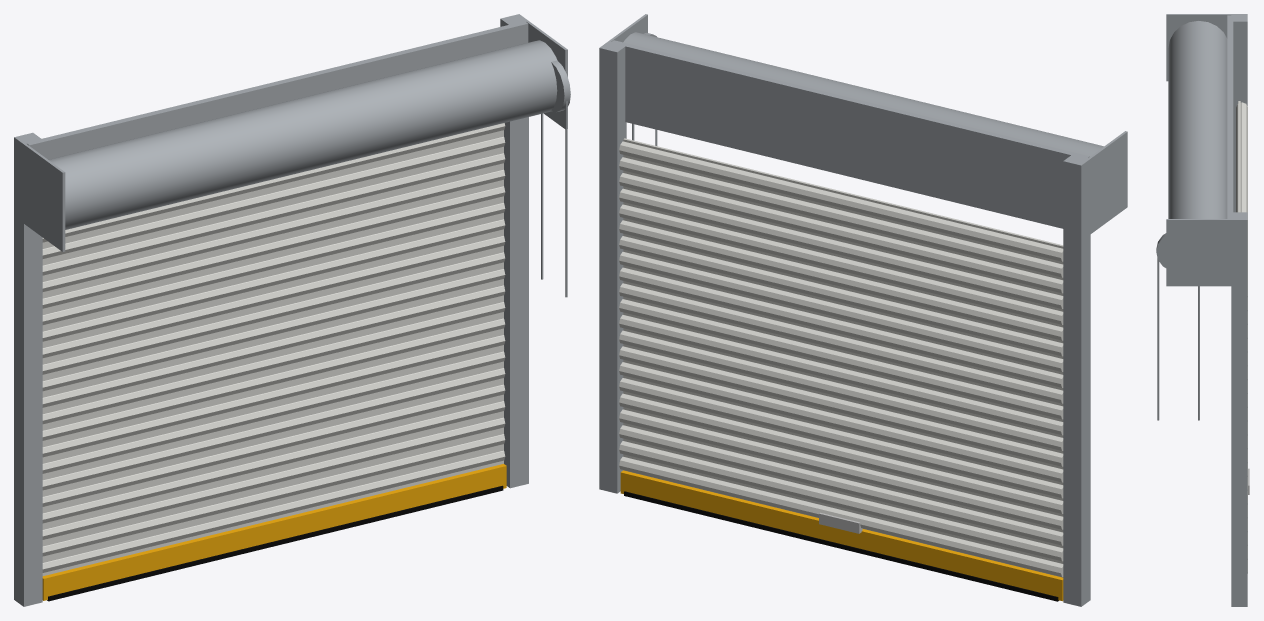
File: opening.door.vehicle_roller_garage.glb
The picture shows the model from 3 angles, left to right: view 1: azimuth 30°, elevation 25°; view 2: azimuth 150°, elevation 25°; view 3: azimuth 270°, elevation 25°; orthographic projection. The views are drawn at different scales.
Visible parts, largest first — view 1: leaf__paint_white, frame__steel_galvanised, leaf__plant_yellow, leaf__rubber, ironmongery__steel_galvanised; view 2: leaf__paint_white, frame__steel_galvanised, leaf__plant_yellow, leaf__rubber; view 3: frame__steel_galvanised, leaf__paint_white, ironmongery__steel_galvanised.
Boxes of the visible parts, left/top/right/bottom form: leaf__paint_white: left=42, top=123, right=505, bottom=575; frame__steel_galvanised: left=14, top=14, right=567, bottom=606; leaf__plant_yellow: left=42, top=464, right=506, bottom=600; leaf__rubber: left=47, top=485, right=503, bottom=601; ironmongery__steel_galvanised: left=541, top=60, right=570, bottom=297; leaf__paint_white: left=619, top=138, right=1063, bottom=577; frame__steel_galvanised: left=599, top=14, right=1127, bottom=606; leaf__plant_yellow: left=620, top=470, right=1063, bottom=601; leaf__rubber: left=624, top=491, right=1058, bottom=601; frame__steel_galvanised: left=1166, top=14, right=1247, bottom=606; leaf__paint_white: left=1236, top=101, right=1247, bottom=573; ironmongery__steel_galvanised: left=1156, top=233, right=1199, bottom=420.
Size of the model in its own units: 2.4 by 2.1 by 0.46.
